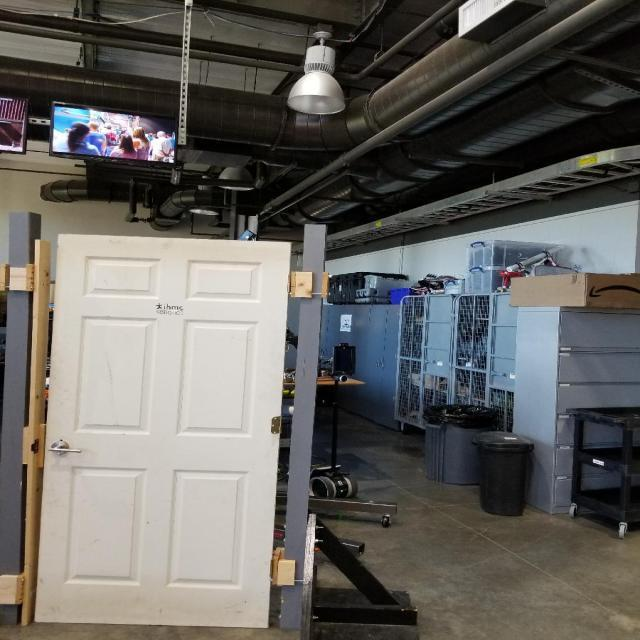door: (29, 231, 295, 632), (48, 440, 82, 456)
